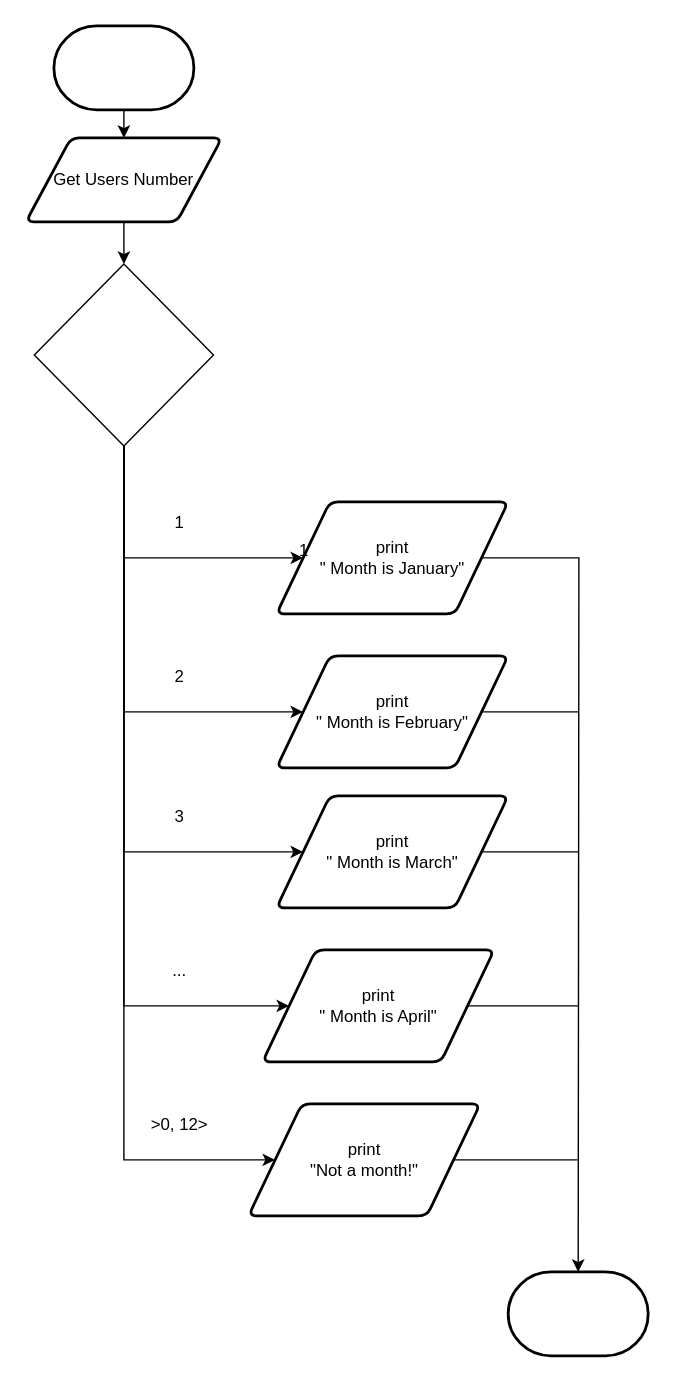
Image size: 673x1380. Some labels were removed from this diagram. Each missing label, with the centre of its shape:
Month in Integer: point (123, 354)
Start: point (123, 67)
stop: point (577, 1313)
